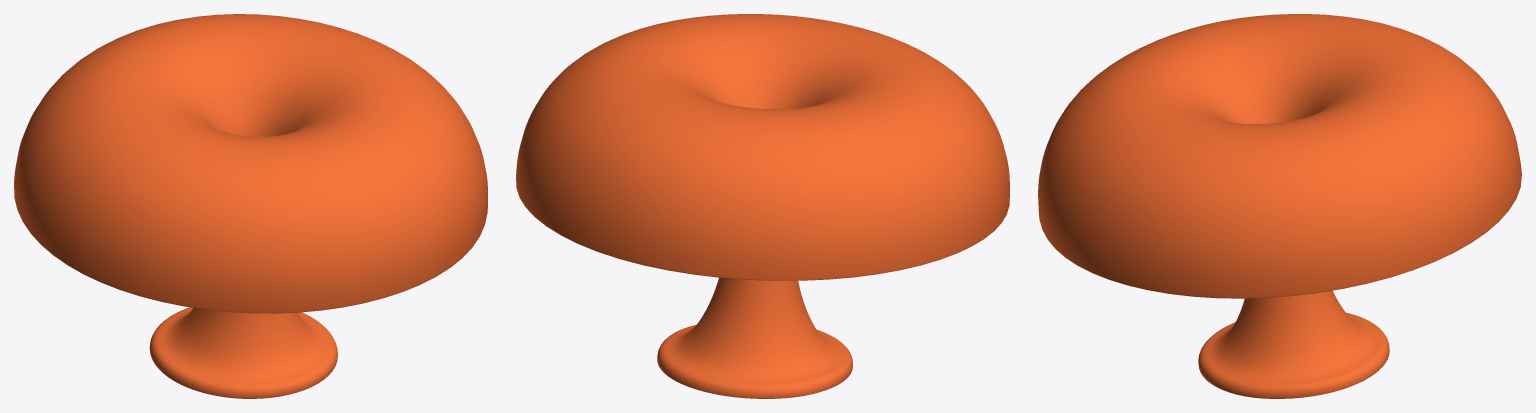
File: realisticLamp-transformed.glb
The picture shows the model from 3 angles, left to right: view 1: azimuth 30°, elevation 25°; view 2: azimuth 150°, elevation 25°; view 3: azimuth 270°, elevation 25°; orthographic projection. The views are drawn at different scales.
Visible parts, largest first — view 1: Obj_000001; view 2: Obj_000001; view 3: Obj_000001.
Boxes of the visible parts, x1,y1,x2,y2 form: Obj_000001: (14,14,487,398); Obj_000001: (516,14,1009,398); Obj_000001: (1038,14,1521,398).
Bounding box in the file's own units: 2.57 × 1.74 × 2.58.
